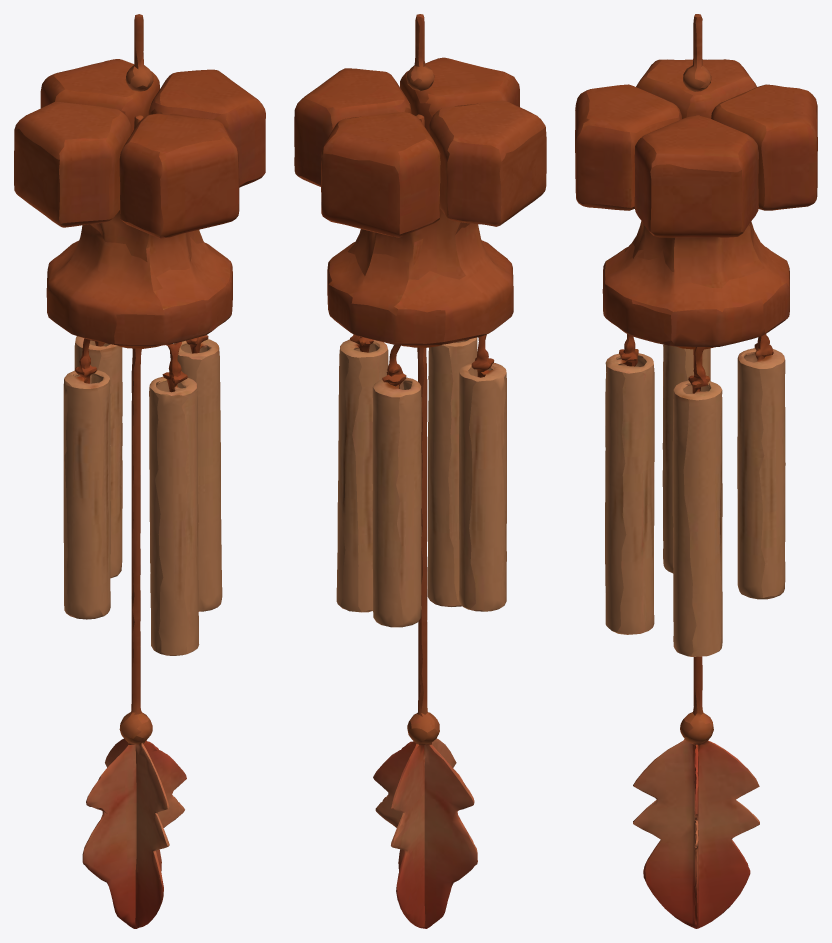
File: sz-chime-totem.glb
The picture shows the model from 3 angles, left to right: view 1: azimuth 30°, elevation 25°; view 2: azimuth 150°, elevation 25°; view 3: azimuth 270°, elevation 25°; orthographic projection.
Parts seen in each view (by area): view 1: geometry_0; view 2: geometry_0; view 3: geometry_0.
Boxes of the visible parts, x1,y1,x2,y2 form: geometry_0: (14,14,265,928); geometry_0: (294,14,546,928); geometry_0: (575,14,817,928).
Size of the model in its own units: 0.2399 by 1 by 0.2403.
Materials: 1 (1 with a texture image).
